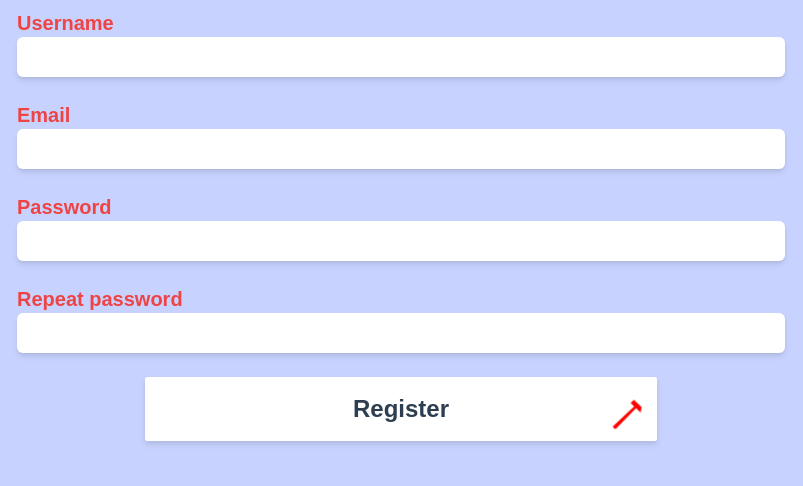
Test case: Register › invalid signup
Click the button "Register".
click(401, 409)  # box [145,377,657,441]
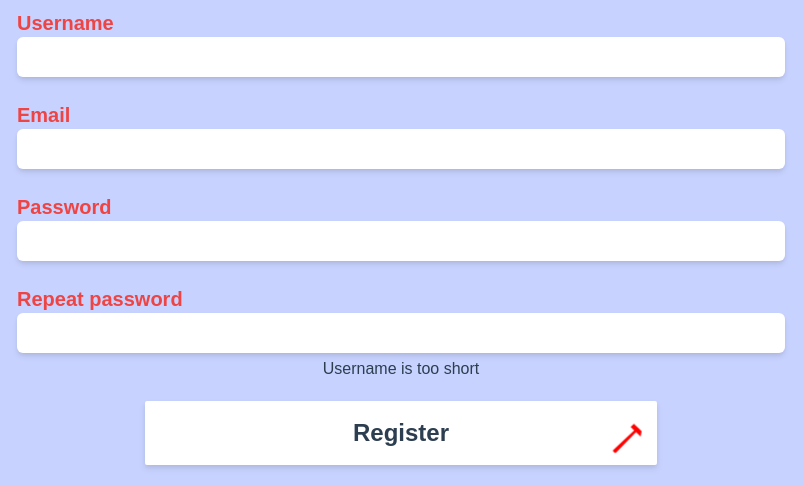
Result: the text "Username is too short" is shown at [323,357,479,381]
